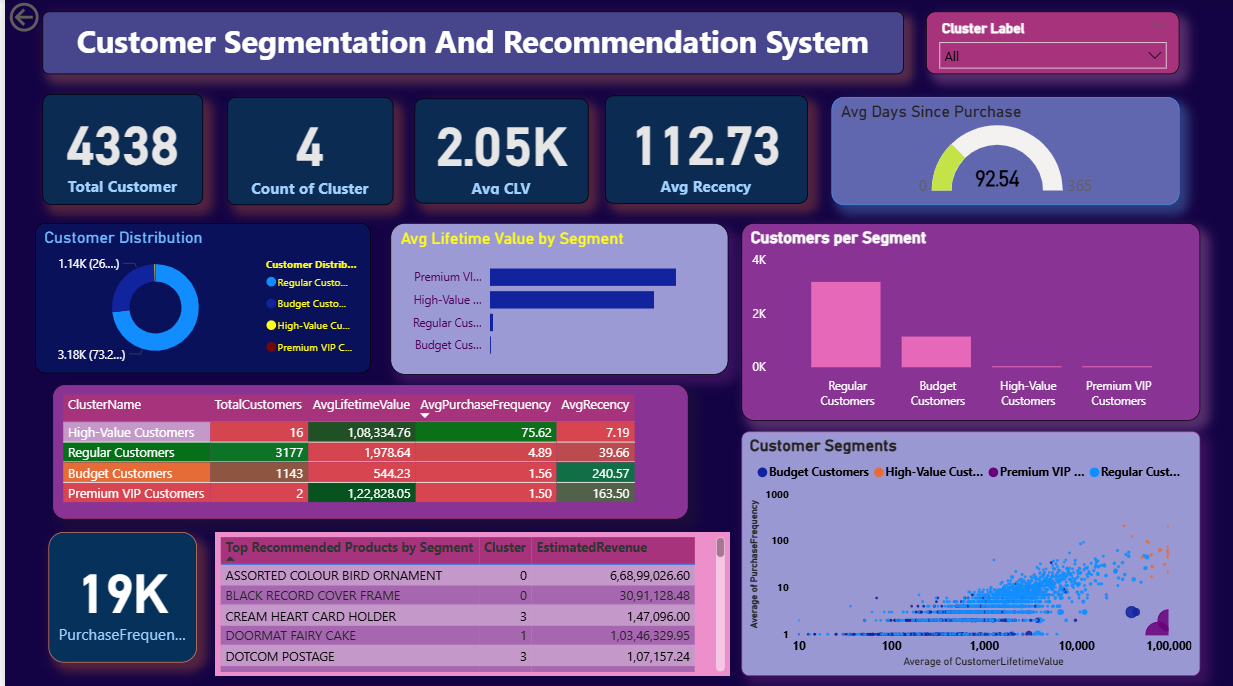

What the dashboard file says about the page in this screenshot:
{"tool":"powerbi","page":{"name":"Page 1","canvas":[1280,720],"ordinal":0},"visuals":[{"type":"textbox","box":[39.1,14.1,897.2,65.6],"z":0},{"type":"card","fields":{"Values":["Count(customer_segments_final.CustomerID)"]},"box":[39.1,100,167.2,115.7],"z":1000},{"type":"card","fields":{"Values":["Avg(customer_segments_final.CustomerLifetimeValue)"]},"box":[426.7,104.7,181.3,109.4],"z":2000},{"type":"card","fields":{"Values":["Avg(cluster_profiles.AvgRecency)"]},"box":[625.2,101.6,211,112.5],"z":3000},{"type":"card","fields":{"Values":["Count(customer_segments_final.Cluster)"]},"box":[231.3,103.2,173.5,112.5],"z":4000},{"type":"donutChart","title":"Customer Distribution","fields":{"Category":["customer_segments_final.ClusterLabel"],"Y":["CountNonNull(customer_segments_final.Cluster)"]},"box":[31.7,235,350,156.7],"z":5000},{"type":"clusteredBarChart","title":"Avg Lifetime Value by Segment","fields":{"Y":["Avg(cluster_profiles.AvgLifetimeValue)"],"Category":["customer_segments_final.ClusterLabel"]},"box":[401.7,234.4,351.7,157.9],"z":6000},{"type":"scatterChart","title":"Customer Segments","fields":{"X":["Avg(customer_segments_final.CustomerLifetimeValue)"],"Y":["Avg(customer_segments_final.PurchaseFrequency)"],"Series":["customer_segments_final.ClusterLabel"],"Size":["Avg(customer_segments_final.AverageTransactionValue)"],"Category":["customer_segments_final.CustomerID"]},"box":[767.4,451.7,478.3,254.8],"z":7000},{"type":"actionButton","box":[0,0,100,40],"z":8000},{"type":"tableEx","fields":{"Values":["cluster_profiles.ClusterName","cluster_profiles.TotalCustomers","cluster_profiles.AvgLifetimeValue","cluster_profiles.AvgPurchaseFrequency","cluster_profiles.AvgRecency"]},"box":[50,403.3,661.1,139.1],"z":9000},{"type":"tableEx","fields":{"Values":["product_recommendations.ProductDescription","product_recommendations.Cluster","Sum(product_recommendations.EstimatedRevenue)"]},"box":[218.8,556.4,536.1,150],"z":10000},{"type":"clusteredColumnChart","title":"Customers per Segment","fields":{"Category":["customer_segments_final.ClusterLabel"],"Y":["CountNonNull(customer_segments_final.CustomerID)"]},"box":[767.4,234.4,478.3,206.3],"z":11000},{"type":"gauge","title":"Avg Days Since Purchase","fields":{"Y":["Avg(customer_segments_final.Recency)"]},"box":[861.2,103.2,362.6,112.5],"z":12000},{"type":"slicer","fields":{"Values":["customer_segments_final.ClusterLabel"]},"box":[959.7,14.1,264.1,65.6],"z":13000},{"type":"card","fields":{"Values":["Sum(customer_segments_final.PurchaseFrequency)"]},"box":[45.3,556.4,154.7,136],"z":14000}]}

Visuals, with their boxes in screenshot pixels (x1, y1, x2, y2), scaled from the page's 1280x720 canvas onto the 1233x686 screenshot:
textbox: 38, 13, 902, 76
card - Count(customer_segments_final.CustomerID): 38, 95, 199, 206
card - Avg(customer_segments_final.CustomerLifetimeValue): 411, 100, 586, 204
card - Avg(cluster_profiles.AvgRecency): 602, 97, 805, 204
card - Count(customer_segments_final.Cluster): 223, 98, 390, 206
"Customer Distribution" donutChart: 31, 224, 368, 373
"Avg Lifetime Value by Segment" clusteredBarChart: 387, 223, 726, 374
"Customer Segments" scatterChart: 739, 430, 1200, 673
actionButton: 0, 0, 96, 38
tableEx - cluster_profiles.ClusterName x cluster_profiles.TotalCustomers: 48, 384, 685, 517
tableEx - product_recommendations.ProductDescription x product_recommendations.Cluster: 211, 530, 727, 673
"Customers per Segment" clusteredColumnChart: 739, 223, 1200, 420
"Avg Days Since Purchase" gauge: 830, 98, 1179, 206
slicer - customer_segments_final.ClusterLabel: 924, 13, 1179, 76
card - Sum(customer_segments_final.PurchaseFrequency): 44, 530, 193, 660
